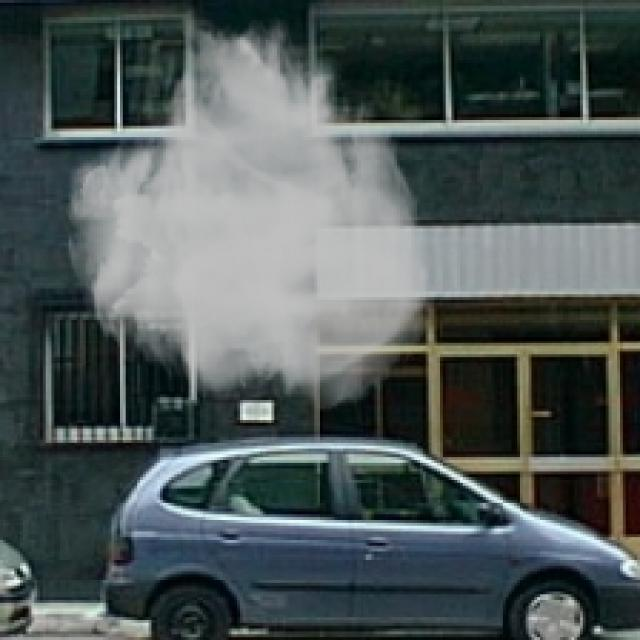Smoke: (62, 6, 438, 414)
